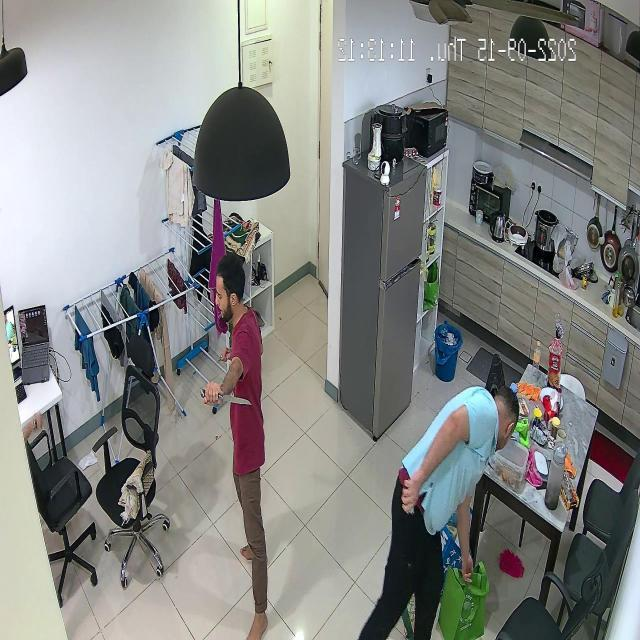Knife: (191, 379, 264, 416)
